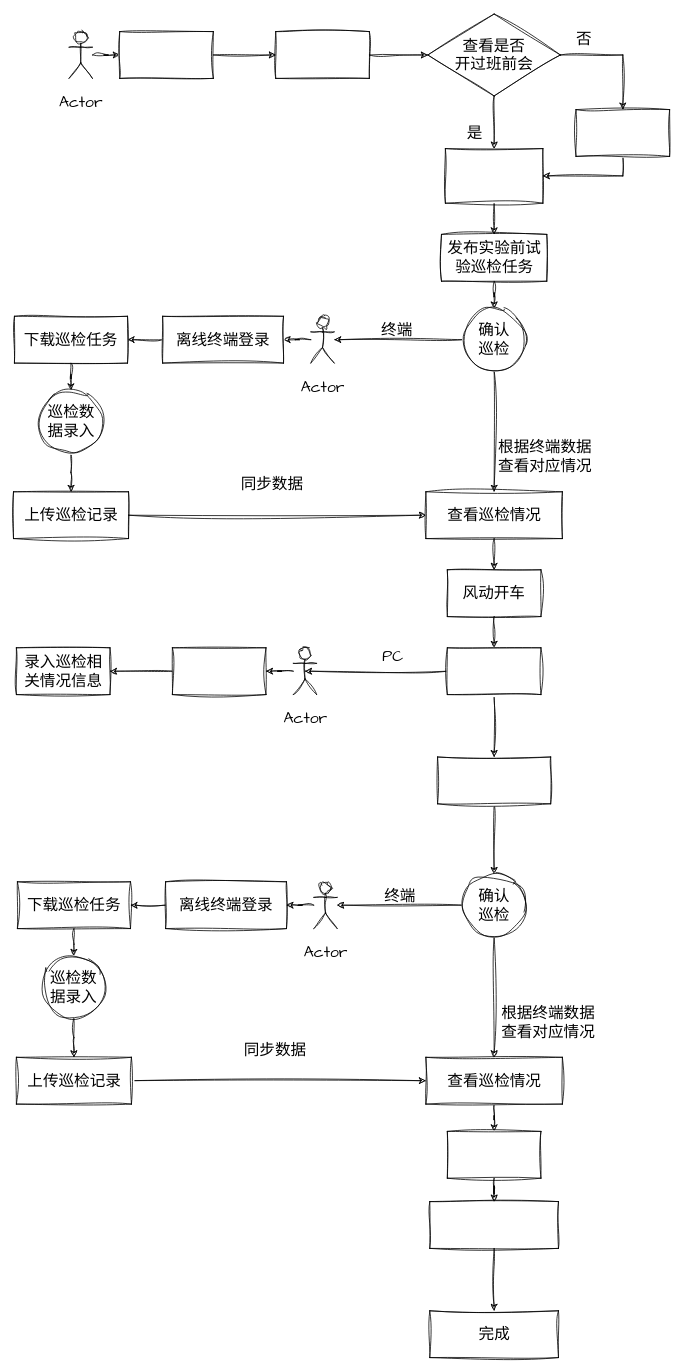
Image size: 684x1371. Some labels were removed from this diagram. Each missing label, with the box of its shape:
创建开车任务单: (445, 148, 543, 203)
创建班前会: (575, 109, 670, 156)
发布实验后试验巡检任务: (437, 756, 551, 804)
实验结论填报: (429, 1201, 558, 1248)
数据录入: (447, 647, 541, 695)
登录: (119, 31, 213, 78)
登录PC系统: (172, 647, 266, 695)
试验班后会: (447, 1131, 541, 1178)
选择试验项目: (275, 31, 369, 78)
